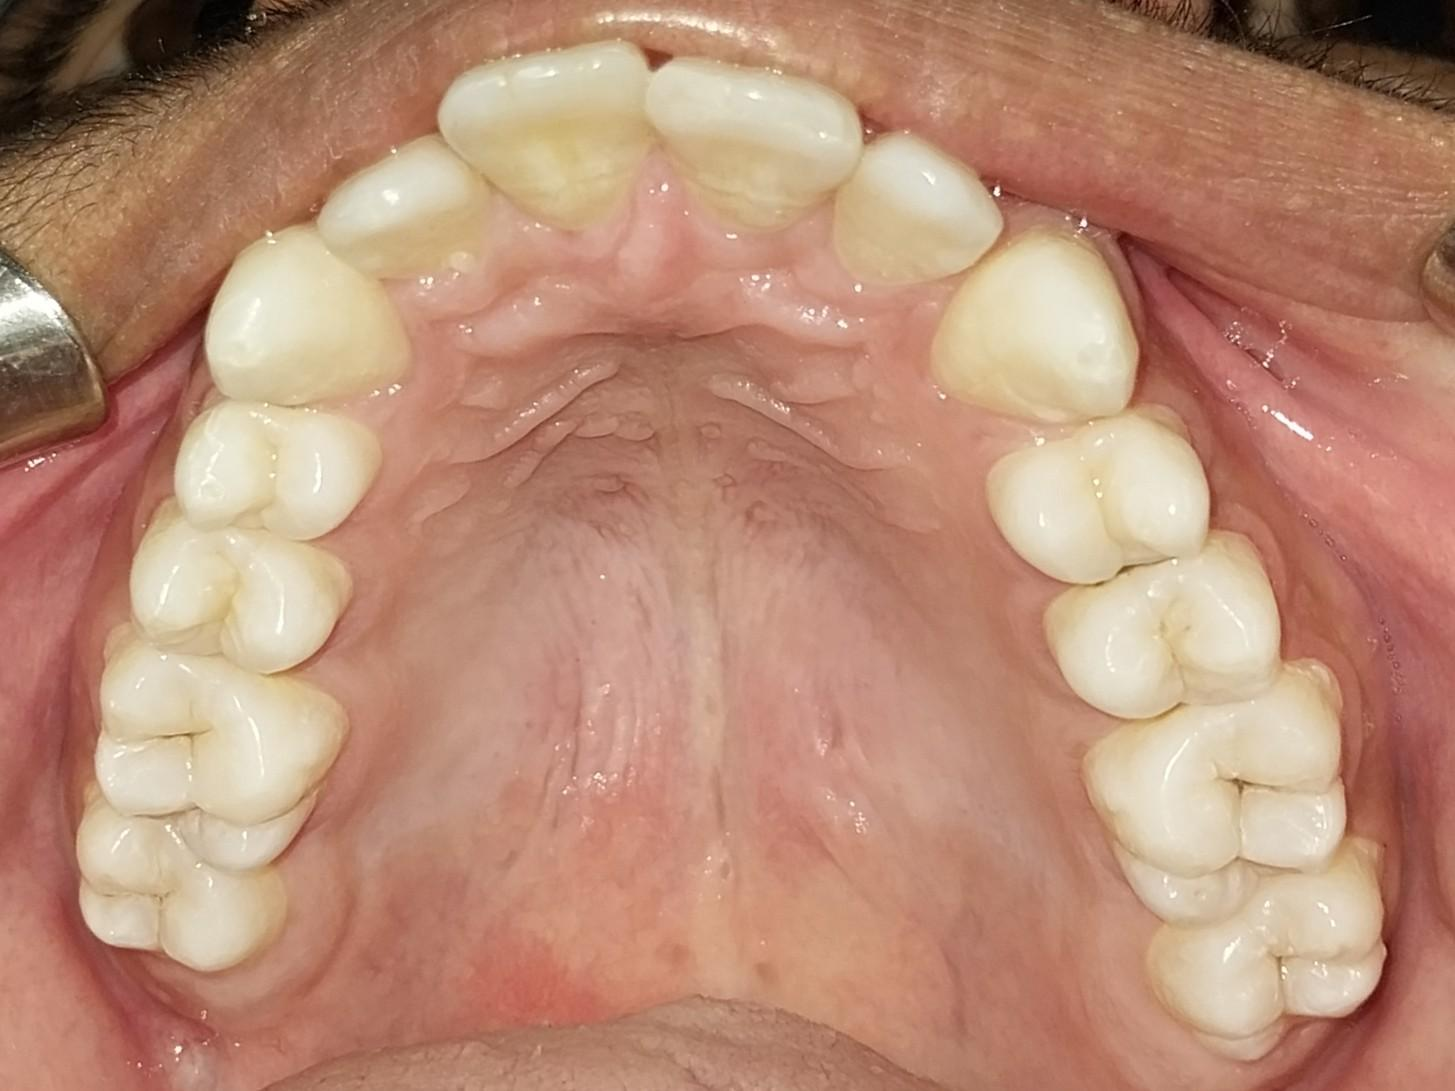D: (1077, 661, 1352, 926), (85, 626, 335, 872), (1148, 838, 1385, 1067)
